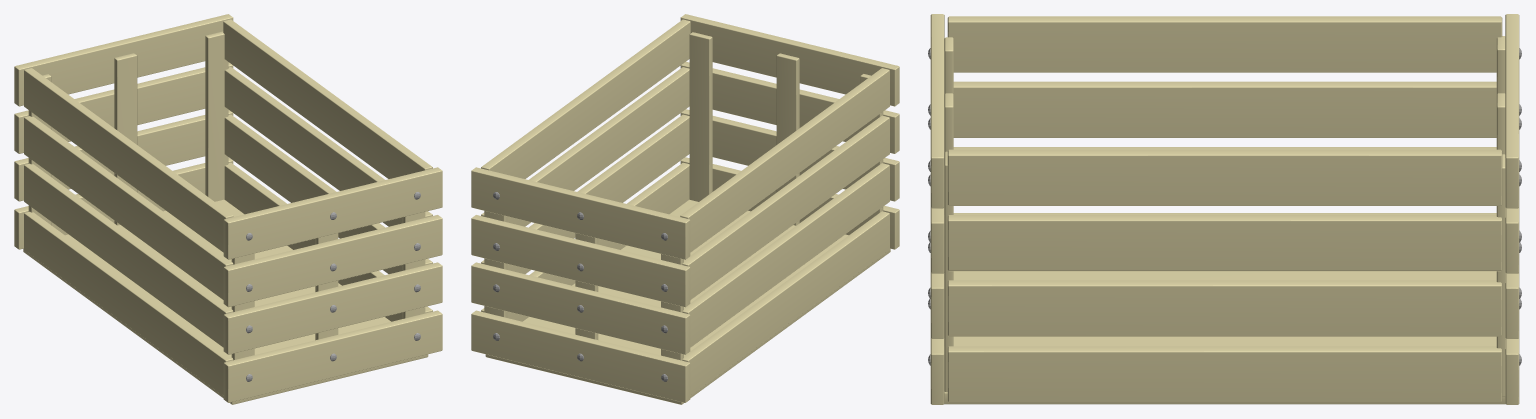
3 renders of one model, left to right at view 1: azimuth 30°, elevation 25°; view 2: azimuth 150°, elevation 25°; view 3: azimuth 270°, elevation 25°, orthographic. The views are drawn at different scales.
Visible parts, largest first — view 1: box; view 2: box; view 3: box.
Boxes of the visible parts, x1=… form: box: x1=14, y1=14, x2=442, y2=404; box: x1=471, y1=14, x2=899, y2=404; box: x1=928, y1=14, x2=1521, y2=404.
Bounding box in the file's own units: 1.08 × 0.8929 × 1.88.
